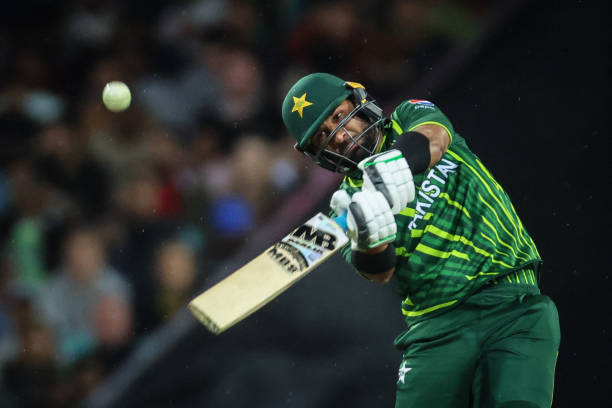bottom left: (174, 291, 207, 315)
bottom right: (207, 322, 230, 343)
top left: (309, 205, 333, 220)
top right: (334, 234, 360, 252)
